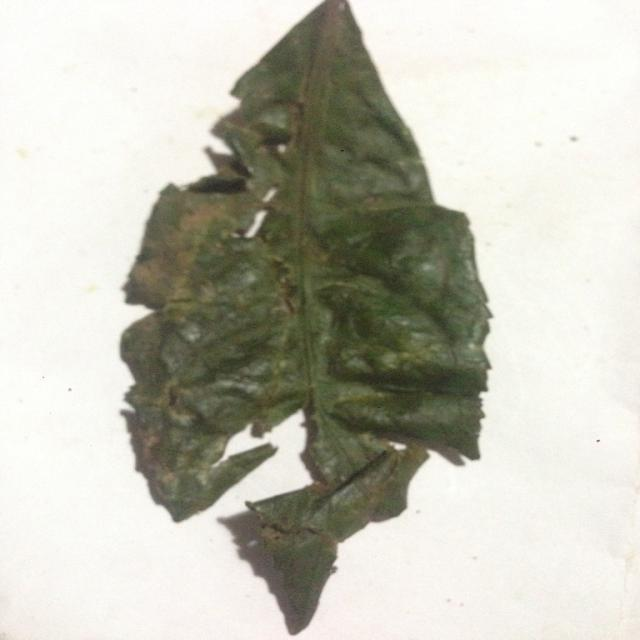Red Leaf Spot: (128, 7, 514, 640)
